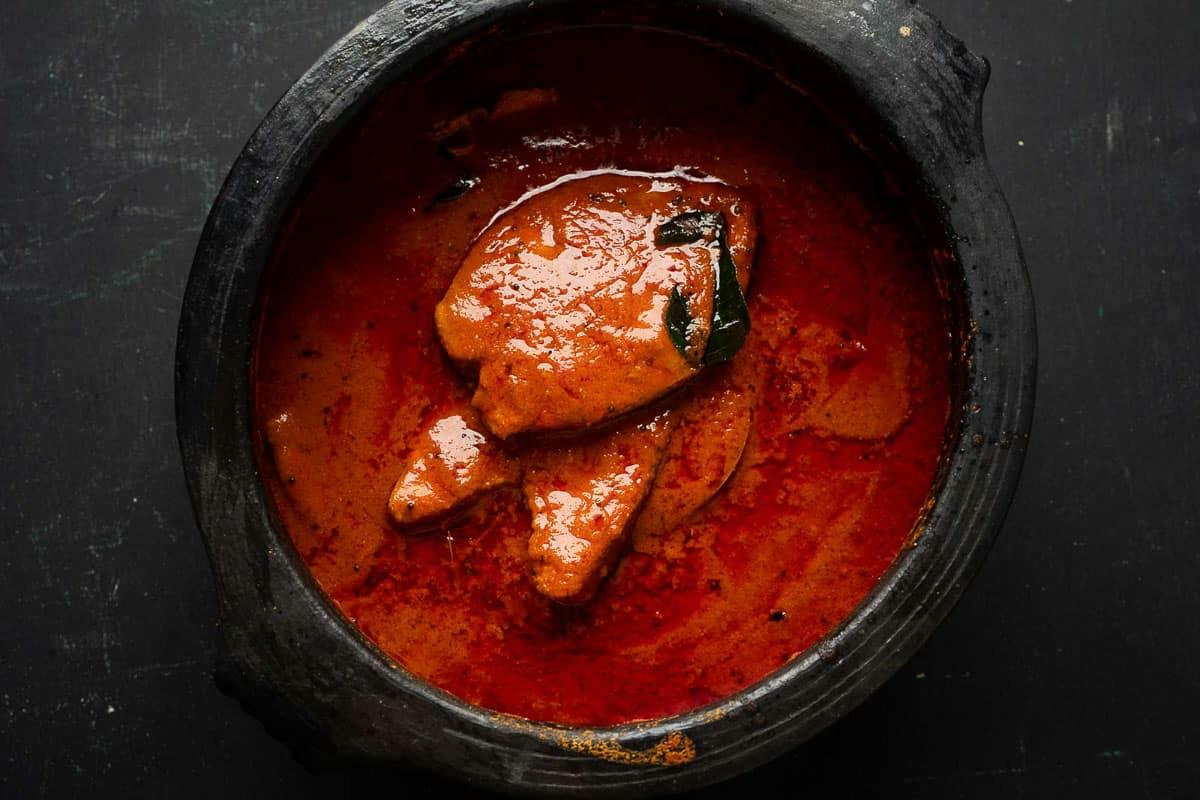FishCurry: (256, 21, 954, 722)
